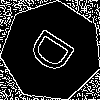D: (26, 26, 85, 82)
